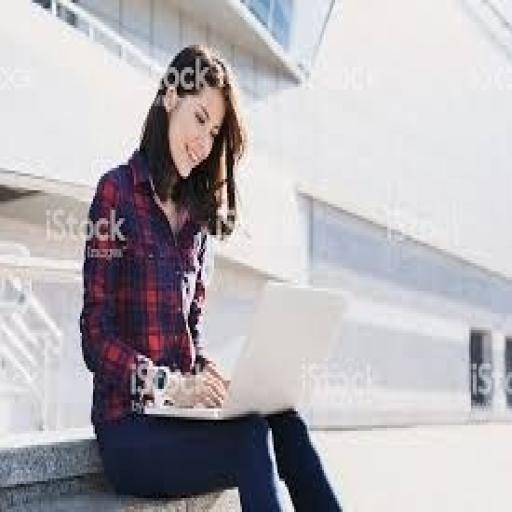using_laptop: (142, 277, 348, 422)
